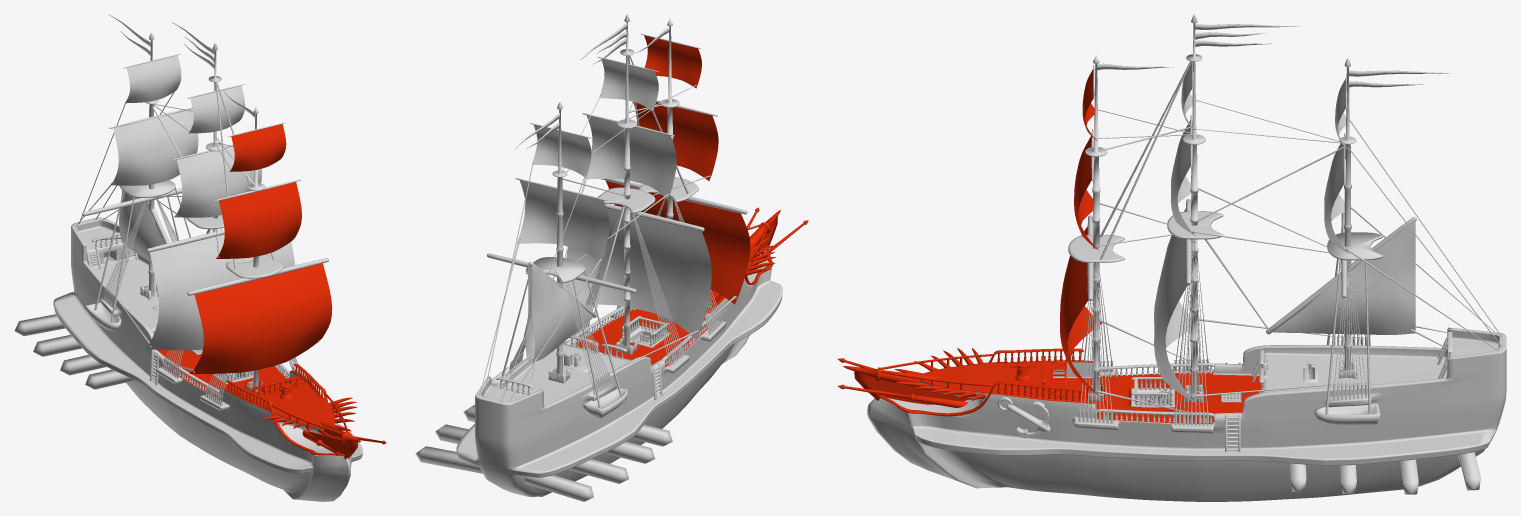
File: Boot.fbx
3 renders of one model, left to right at view 1: azimuth 30°, elevation 25°; view 2: azimuth 150°, elevation 25°; view 3: azimuth 270°, elevation 25°, orthographic. The views are drawn at different scales.
Parts seen in each view (by area): view 1: Cylinder.013; view 2: Cylinder.013; view 3: Cylinder.013.
Boxes of the visible parts, x1,y1,x2,y2 form: Cylinder.013: (14,14,386,501); Cylinder.013: (415,14,808,501); Cylinder.013: (837,14,1506,501).
Size of the model in its own units: 24.96 by 50.6 by 65.11.
